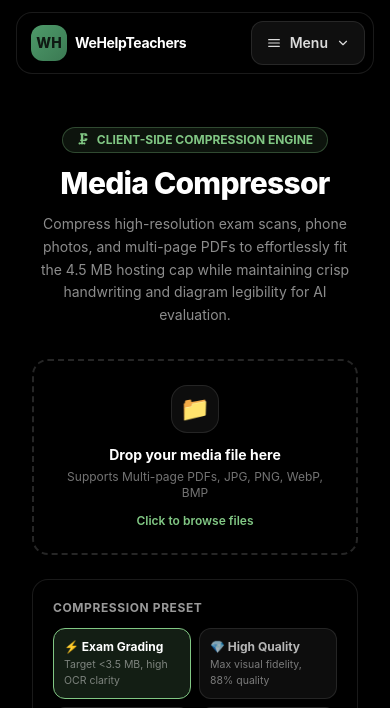
phone navigation menu › shows labeled touch targets for every section and closes after navigation
This screenshot has width=390, height=708.
Earlier steps of the test are not shown.
Later steps or results of the test are not shown.
Click the button with aria-label "Open navigation menu".
click(308, 43)  # box x1=251 y1=21 x2=365 y2=65
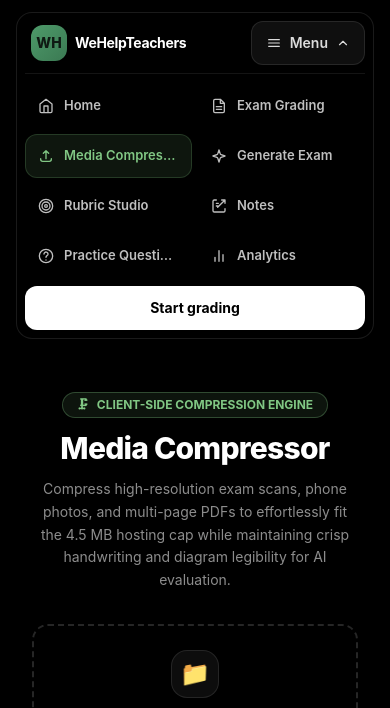
Click the tab "Generate Exam".
click(282, 156)  # box x1=198 y1=134 x2=365 y2=178
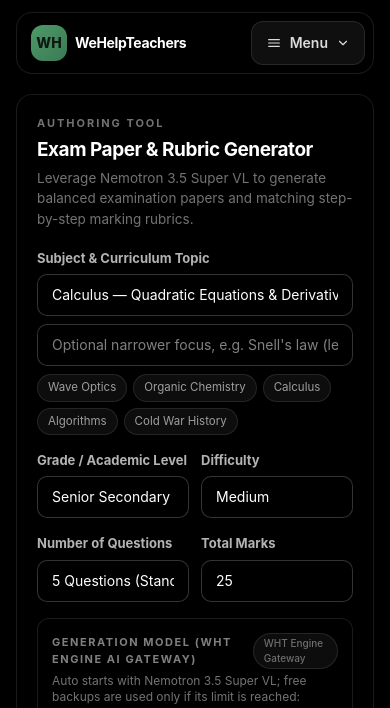
expect the button with aria-label "Open navigation menu" is collapsed: met
Click the button with aria-label "Open navigation menu".
click(308, 43)  # box x1=251 y1=21 x2=365 y2=65
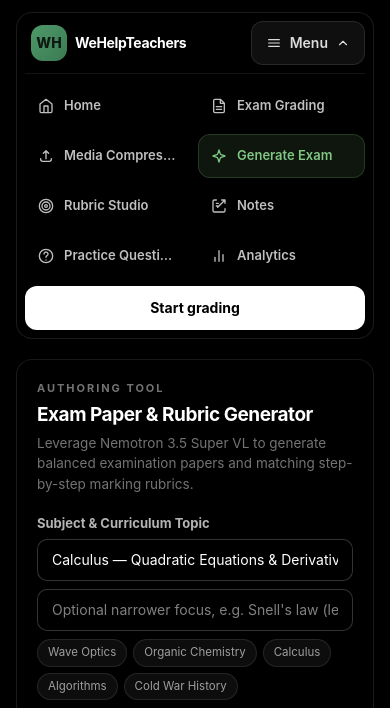
Click the tab "Rubric Studio".
click(108, 206)  # box x1=25 y1=184 x2=192 y2=228
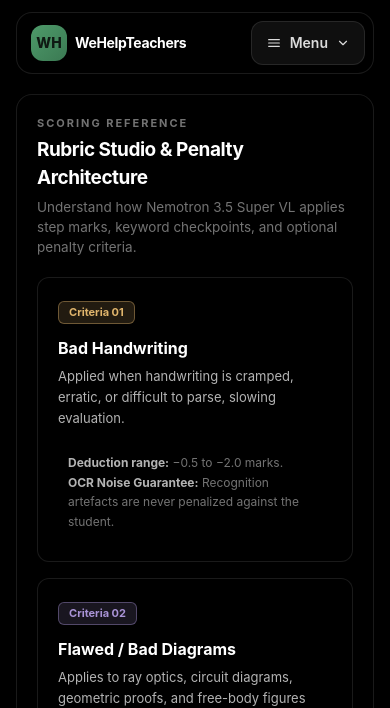
expect the button with aria-label "Open navigation menu" is collapsed: met
Click the button with aria-label "Open navigation menu".
click(308, 43)  # box x1=251 y1=21 x2=365 y2=65
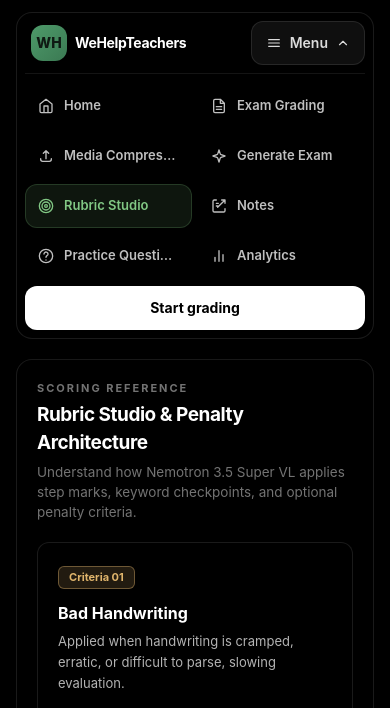
Click the tab "Notes".
click(282, 206)  # box x1=198 y1=184 x2=365 y2=228
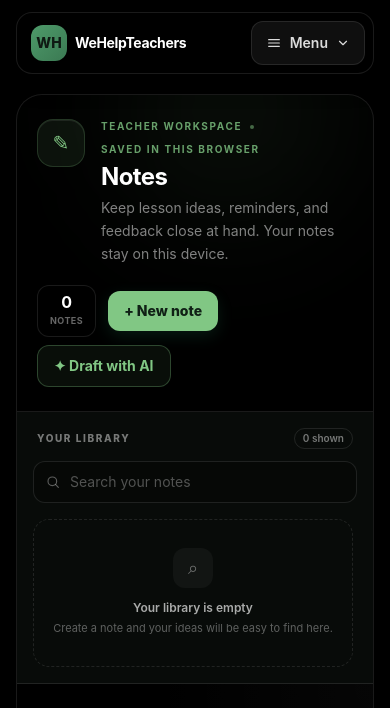
expect the button with aria-label "Open navigation menu" is collapsed: met, box x1=251 y1=21 x2=365 y2=65
